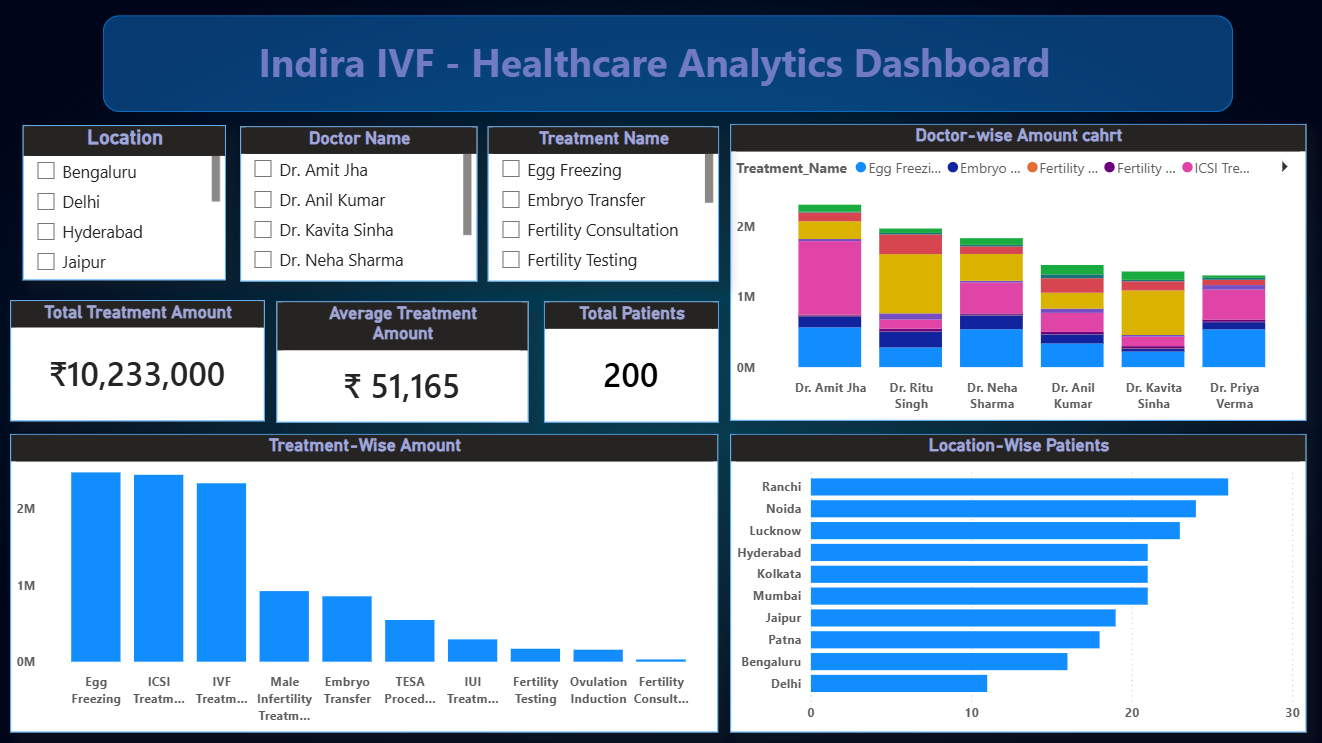

The dashboard page shown, as its layout file describes it:
{"tool":"powerbi","page":{"name":"Page 1","canvas":[1280,720],"ordinal":0},"visuals":[{"type":"cardVisual","title":"Total Treatment Amount","fields":{"Data":["indiraivf_practice_db vw_patient_treatment_powerbi.Total Treatment Amount"]},"box":[11,290.9,245.6,116.6],"z":0},{"type":"cardVisual","title":"Total Patients","fields":{"Data":["indiraivf_practice_db vw_patient_treatment_powerbi.Total Patients"]},"box":[525.6,292.3,168.8,116.6],"z":1000},{"type":"cardVisual","title":"Average Treatment Amount","fields":{"Data":["indiraivf_practice_db vw_patient_treatment_powerbi.Average Treatment Amount"]},"box":[267.6,292.3,242.9,116.6],"z":2000},{"type":"clusteredColumnChart","title":"Treatment-Wise Amount","fields":{"Category":["indiraivf_practice_db vw_patient_treatment_powerbi.Treatment_Name"],"Y":["Sum(indiraivf_practice_db vw_patient_treatment_powerbi.Treatment_Amount)"]},"box":[11,419.9,683.4,288.2],"z":3000},{"type":"clusteredBarChart","title":"Location-Wise Patients","fields":{"Category":["indiraivf_practice_db vw_patient_treatment_powerbi.Location"],"Y":["CountNonNull(indiraivf_practice_db vw_patient_treatment_powerbi.Patient_ID)"]},"box":[705.3,419.9,555.7,288.2],"z":4000},{"type":"columnChart","title":"Doctor-wise Amount cahrt","fields":{"Category":["indiraivf_practice_db vw_patient_treatment_powerbi.Doctor_Name"],"Y":["Sum(indiraivf_practice_db vw_patient_treatment_powerbi.Treatment_Amount)"],"Series":["indiraivf_practice_db vw_patient_treatment_powerbi.Treatment_Name"]},"box":[705.3,120.8,555.7,286.8],"z":5000},{"type":"slicer","title":"Location","fields":{"Values":["indiraivf_practice_db vw_patient_treatment_powerbi.Location"]},"box":[23.3,122.1,196.2,149.6],"z":6000},{"type":"slicer","title":"Doctor Name","fields":{"Values":["indiraivf_practice_db vw_patient_treatment_powerbi.Doctor_Name"]},"box":[233.3,123.5,229.2,149.6],"z":7000},{"type":"slicer","title":"Treatment Name","fields":{"Values":["indiraivf_practice_db vw_patient_treatment_powerbi.Treatment_Name"]},"box":[471.7,123.1,223.2,149.6],"z":8000},{"type":"shape","box":[100.2,15.1,1090.9,93.3],"z":9000},{"type":"textbox","box":[122.1,30.2,1049.7,67.2],"z":10000}]}

Visuals, with their boxes in screenshot pixels (x1, y1, x2, y2), scaled from the page's 1280x720 canvas onto the 1322x743 screenshot:
"Total Treatment Amount" cardVisual: {"x1": 11, "y1": 300, "x2": 265, "y2": 421}
"Total Patients" cardVisual: {"x1": 543, "y1": 302, "x2": 717, "y2": 422}
"Average Treatment Amount" cardVisual: {"x1": 276, "y1": 302, "x2": 527, "y2": 422}
"Treatment-Wise Amount" clusteredColumnChart: {"x1": 11, "y1": 433, "x2": 717, "y2": 731}
"Location-Wise Patients" clusteredBarChart: {"x1": 728, "y1": 433, "x2": 1302, "y2": 731}
"Doctor-wise Amount cahrt" columnChart: {"x1": 728, "y1": 125, "x2": 1302, "y2": 421}
"Location" slicer: {"x1": 24, "y1": 126, "x2": 227, "y2": 280}
"Doctor Name" slicer: {"x1": 241, "y1": 127, "x2": 478, "y2": 282}
"Treatment Name" slicer: {"x1": 487, "y1": 127, "x2": 718, "y2": 281}
shape: {"x1": 103, "y1": 16, "x2": 1230, "y2": 112}
textbox: {"x1": 126, "y1": 31, "x2": 1210, "y2": 101}
